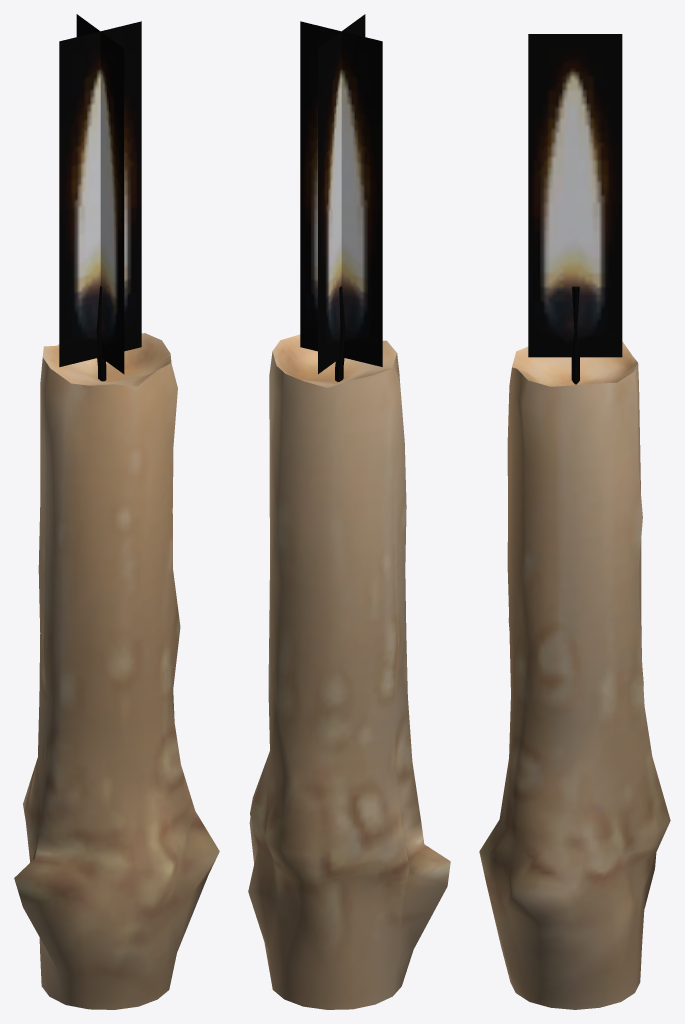
Rendered from candle02_fire.fbx.
The picture shows the model from 3 angles, left to right: view 1: azimuth 30°, elevation 25°; view 2: azimuth 150°, elevation 25°; view 3: azimuth 270°, elevation 25°; orthographic projection.
Visible parts, largest first — view 1: candle02_fire, candle02; view 2: candle02_fire, candle02; view 3: candle02_fire, candle02.
Boxes of the visible parts, bbox=[...] form: candle02_fire: bbox=[14, 286, 219, 1009]; candle02: bbox=[59, 14, 141, 374]; candle02_fire: bbox=[248, 286, 450, 1009]; candle02: bbox=[300, 14, 382, 373]; candle02_fire: bbox=[479, 286, 670, 1009]; candle02: bbox=[528, 34, 622, 357].
Bounding box in the file's own units: 18.85 × 87.51 × 16.04.
